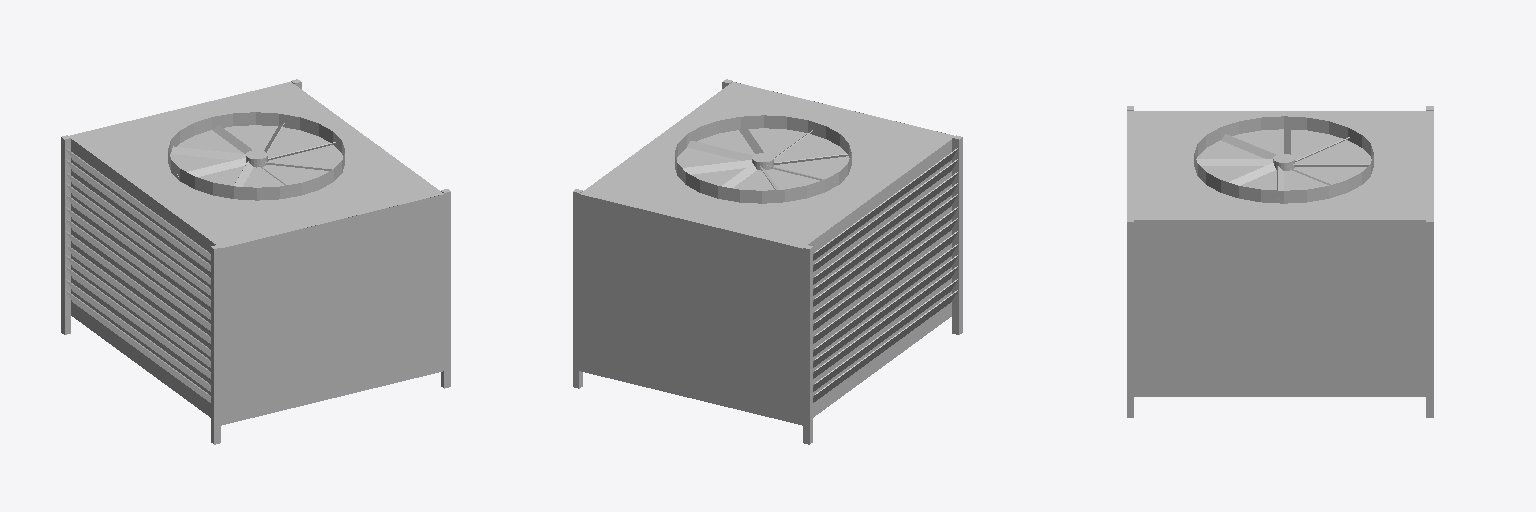
File: Cooler.obj
3 renders of one model, left to right at view 1: azimuth 30°, elevation 25°; view 2: azimuth 150°, elevation 25°; view 3: azimuth 270°, elevation 25°, orthographic.
Visible parts, largest first — view 1: Cooler.obj; view 2: Cooler.obj; view 3: Cooler.obj.
Boxes of the visible parts, <box> form: Cooler.obj: <box>61,79,450,444</box>; Cooler.obj: <box>573,79,962,444</box>; Cooler.obj: <box>1127,106,1433,417</box>.
Bounding box in the file's own units: 3.53 × 2.95 × 3.96.